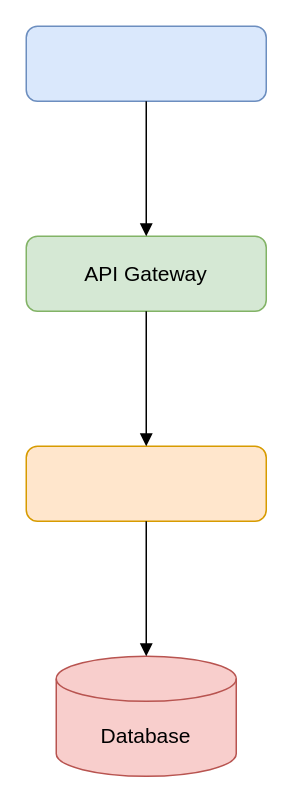
Some shapes in this 293 by 803 pixel diagram are drawn without their labels. Here are the shapes that lost their labels. From the top down, the centre of each, then its label:
point 145,63: Client
point 145,483: Backend API
